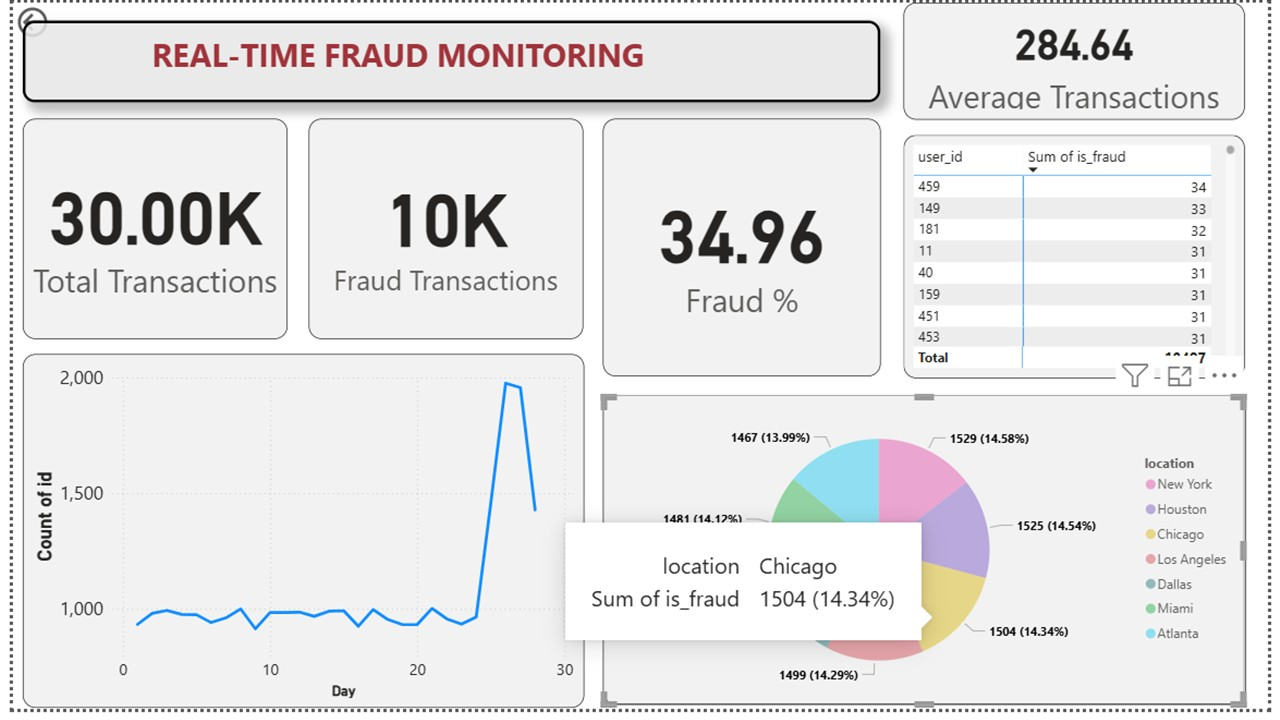

Layout of this report page (visuals, bound fields, positions):
{"tool":"powerbi","page":{"name":"Page 1","canvas":[1280,720],"ordinal":0},"visuals":[{"type":"card","fields":{"Values":["CountNonNull(fraud_db transactions.id)"]},"box":[9.4,119.1,270.2,224.9],"z":0},{"type":"actionButton","box":[0,0,100,40],"z":1000},{"type":"card","title":"fraud","fields":{"Values":["Sum(fraud_db transactions.is_fraud)"]},"box":[302.4,119.1,279.7,224.9],"z":2000},{"type":"lineChart","fields":{"Y":["CountNonNull(fraud_db transactions.id)"],"Category":["fraud_db transactions.timestamp.Variation.Date Hierarchy.Day"]},"box":[9.4,359.1,572.6,360.9],"z":3000},{"type":"textbox","box":[9.4,18.9,875,83.2],"z":4000},{"type":"card","fields":{"Values":["fraud_db transactions.Fraud %"]},"box":[600.9,119.1,283.5,262.7],"z":5000},{"type":"pieChart","fields":{"Category":["fraud_db transactions.location"],"Y":["Sum(fraud_db transactions.is_fraud)"]},"box":[600.9,400.6,655.8,315.6],"z":6000},{"type":"pivotTable","fields":{"Rows":["fraud_db transactions.user_id"],"Values":["Sum(fraud_db transactions.is_fraud)"]},"box":[908.4,134.4,348.1,247.7],"z":7000},{"type":"card","fields":{"Values":["Avg(fraud_db transactions.amount)"]},"box":[909,0,347.7,119.1],"z":7001}]}

Visuals, with their boxes in screenshot pixels (x1, y1, x2, y2), scaled from the page's 1280x720 canvas onto the 1280x720 screenshot:
card - CountNonNull(fraud_db transactions.id): pyautogui.locateOnScreen(9, 119, 280, 344)
actionButton: pyautogui.locateOnScreen(0, 0, 100, 40)
"fraud" card: pyautogui.locateOnScreen(302, 119, 582, 344)
lineChart - CountNonNull(fraud_db transactions.id) x fraud_db transactions.timestamp.Variation.Date Hierarchy.Day: pyautogui.locateOnScreen(9, 359, 582, 719)
textbox: pyautogui.locateOnScreen(9, 19, 884, 102)
card - fraud_db transactions.Fraud %: pyautogui.locateOnScreen(601, 119, 884, 382)
pieChart - fraud_db transactions.location x Sum(fraud_db transactions.is_fraud): pyautogui.locateOnScreen(601, 401, 1257, 716)
pivotTable - fraud_db transactions.user_id x Sum(fraud_db transactions.is_fraud): pyautogui.locateOnScreen(908, 134, 1256, 382)
card - Avg(fraud_db transactions.amount): pyautogui.locateOnScreen(909, 0, 1257, 119)
